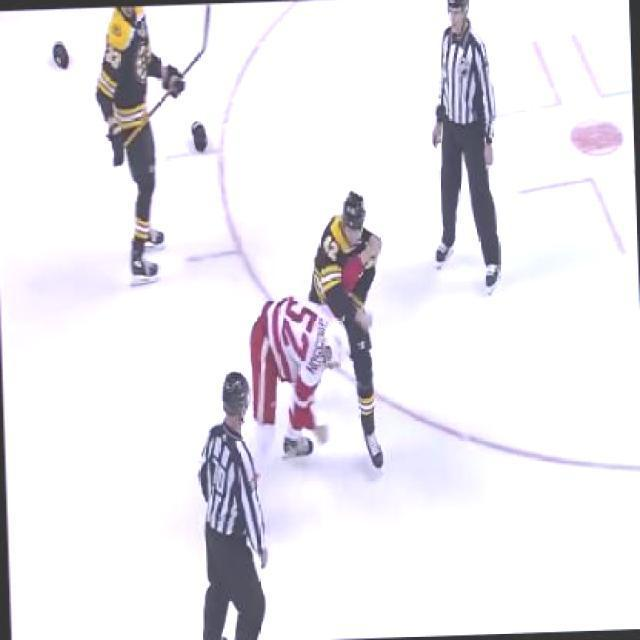fight: (244, 184, 387, 483)
non-fight: (423, 0, 508, 305), (91, 4, 177, 280), (192, 371, 271, 638)
